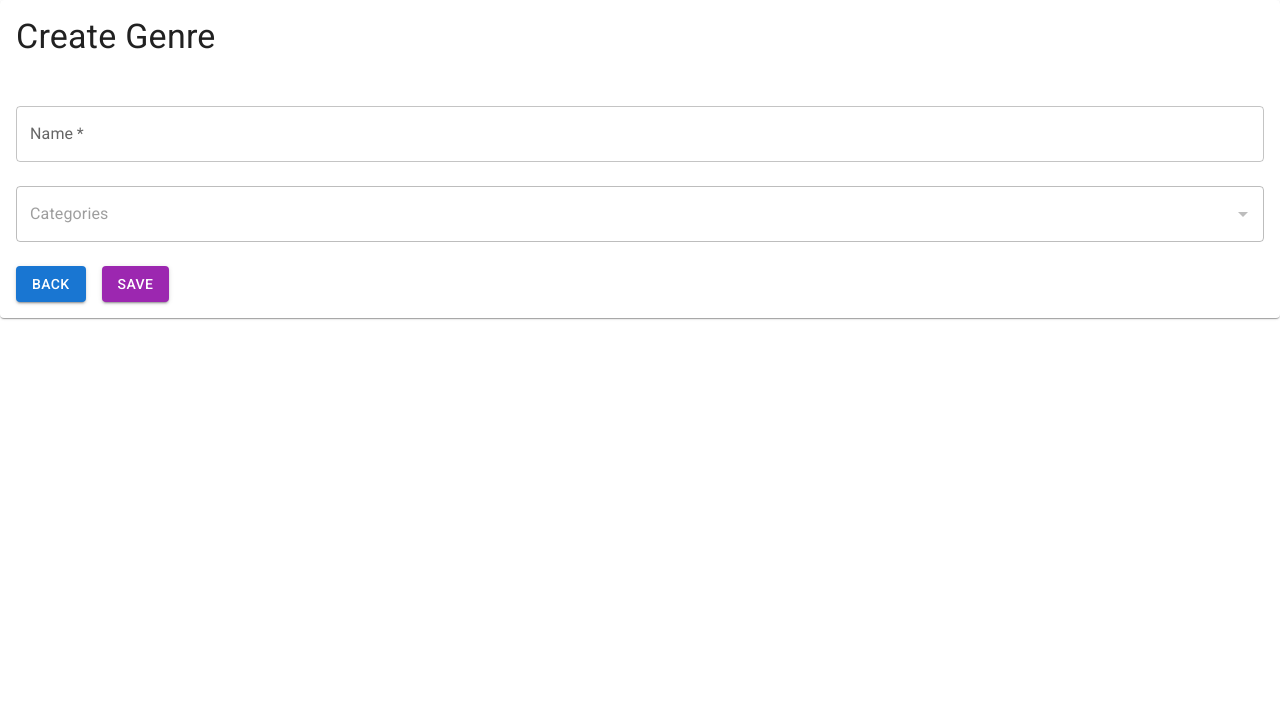
Test case: GenreCreate › should handle submit success
Type "test" into the field with test id "name" at (640, 134), box x1=16 y1=106 x2=1264 y2=162
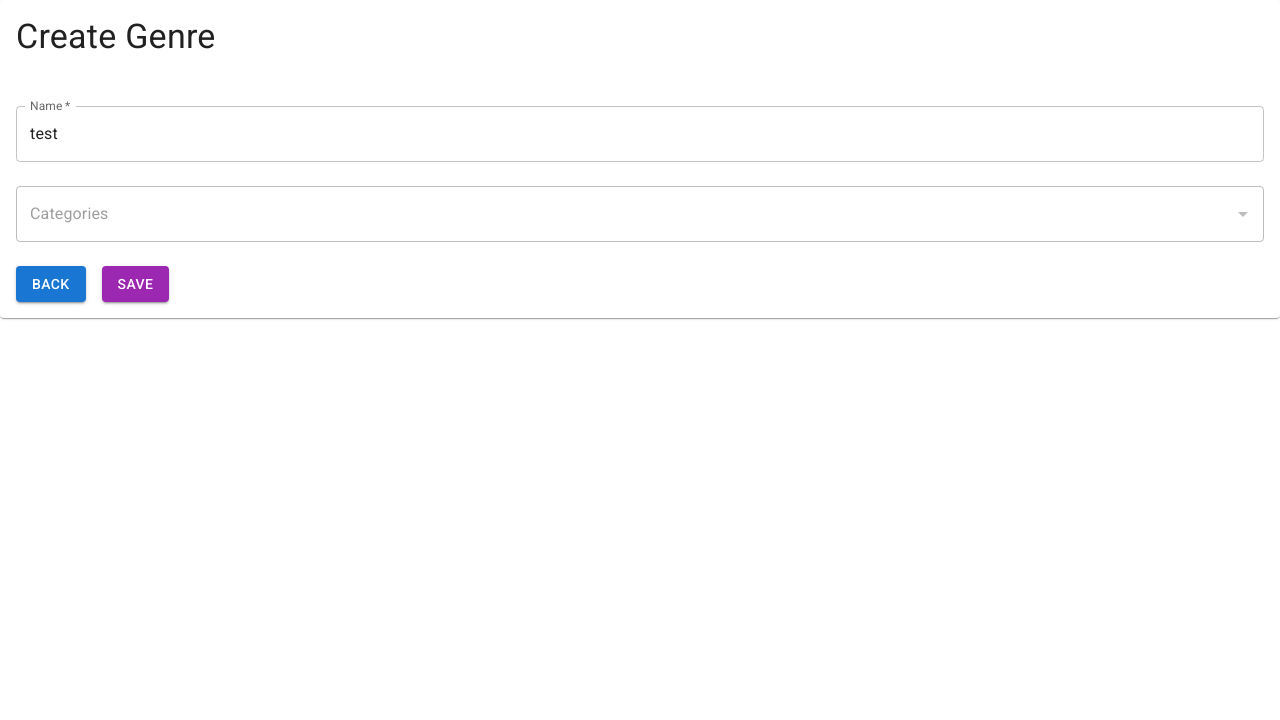
Click the button "Save" at (136, 284), box x1=102 y1=266 x2=169 y2=302
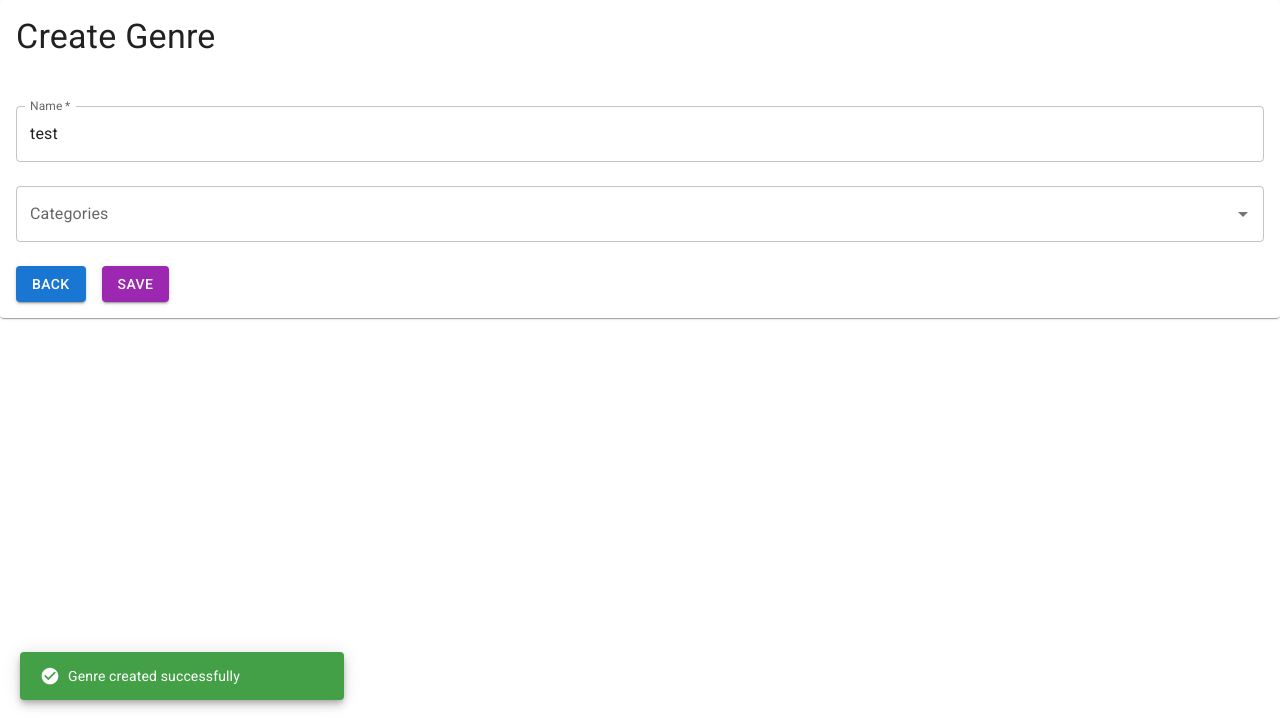
Result: the text "Genre created successfully" is shown at x1=40 y1=666 x2=240 y2=686
